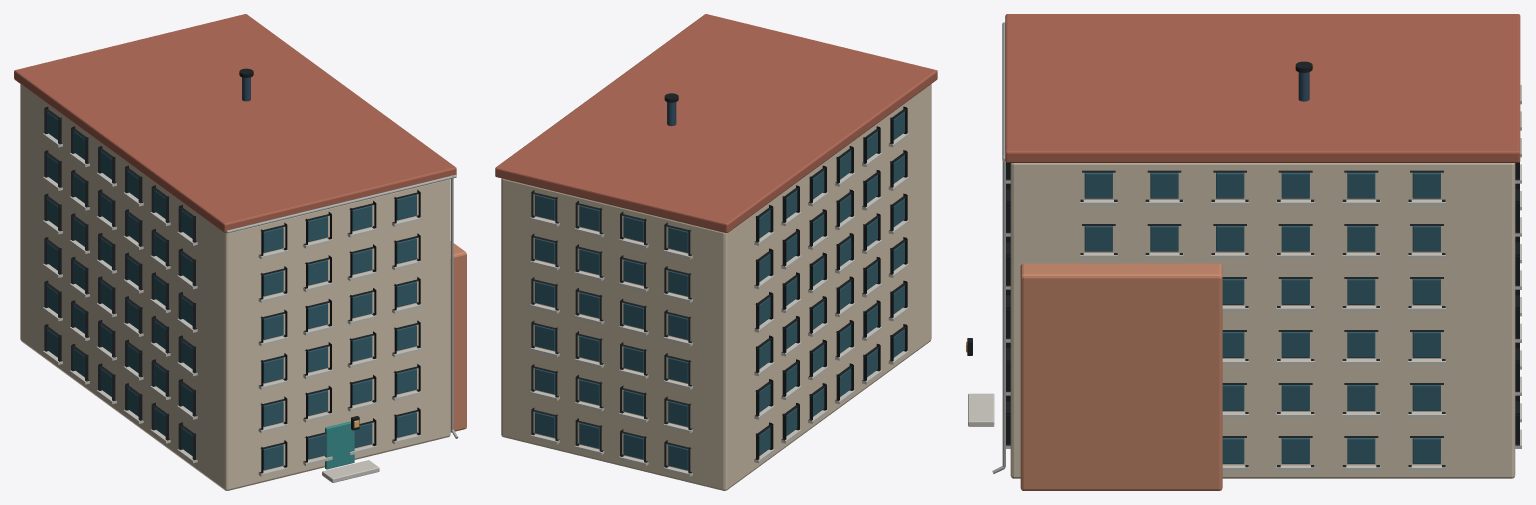
Rendered from RES_MID_2x3_005.glb.
3 views of the same model, side by side, from view 1: azimuth 30°, elevation 25°; view 2: azimuth 150°, elevation 25°; view 3: azimuth 270°, elevation 25° (orthographic). The views are drawn at different scales.
Visible parts, largest first — view 1: RES_MID_2x3_005_Visual; view 2: RES_MID_2x3_005_Visual; view 3: RES_MID_2x3_005_Visual.
Part boxes in pixels (x1=…): RES_MID_2x3_005_Visual: x1=14, y1=14, x2=466, y2=490; RES_MID_2x3_005_Visual: x1=495, y1=14, x2=937, y2=490; RES_MID_2x3_005_Visual: x1=966, y1=14, x2=1521, y2=490.
Size of what is drawn, in the model's own units: 3.5 by 3.98 by 5.51.
